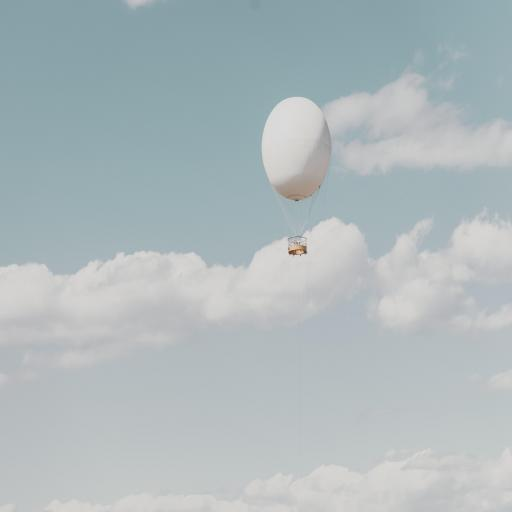hot air ballon: (262, 96, 332, 257)
